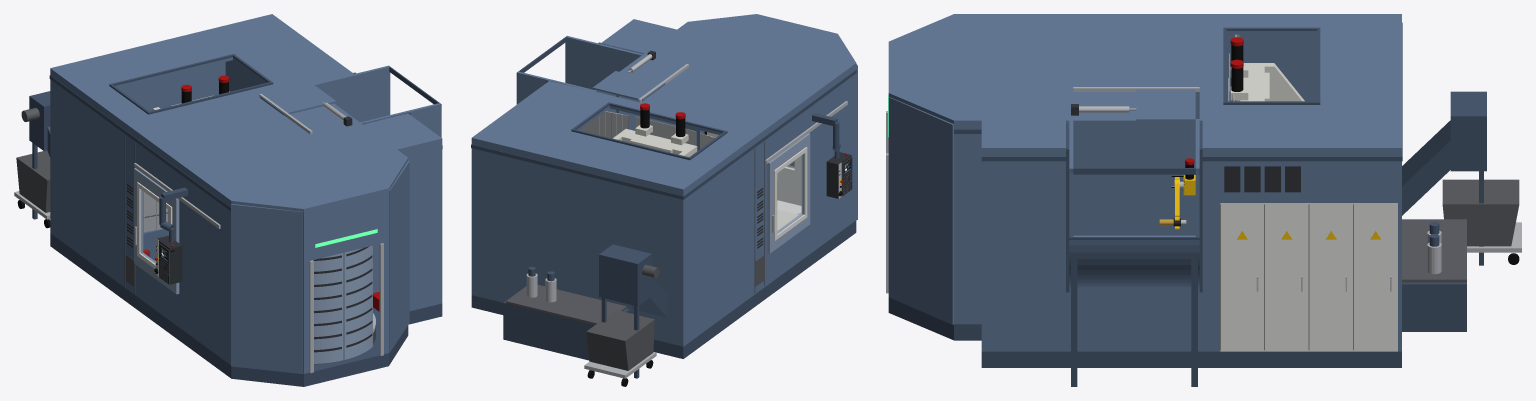
File: hmc_x1200_5ax_blue_left.glb
3 renders of one model, left to right at view 1: azimuth 30°, elevation 25°; view 2: azimuth 150°, elevation 25°; view 3: azimuth 270°, elevation 25°, orthographic. The views are drawn at different scales.
Visible parts, largest first — view 1: enclosure__fms_blue, apc_housing__fms_blue, enclosure__fms_blue_dk, tc_box__fms_blue, apc_housing__fms_blue_dk, apc_door_left__door_blue, apc_door_right__door_blue, chip_cart__steel_dark, operator_door__door_blue, tc_door__fms_blue, chip_coolant__fms_blue_dk, apc_housing__steel (+10 smaller); view 2: enclosure__fms_blue, chip_coolant__fms_blue_dk, apc_housing__fms_blue, enclosure__fms_blue_dk, tc_box__fms_blue, chip_cart__steel_dark, chip_coolant__anthracite_lt, operator_door__door_blue, operator_door__glass_clear, tc_door__fms_blue, column__struct_grey, apc_turntable__hmc_white (+10 smaller); view 3: enclosure__fms_blue, apc_housing__fms_blue, electrical_cabinet__hmc_white, enclosure__fms_blue_dk, chip_coolant__fms_blue_dk, tc_door__fms_blue, tc_box__fms_blue, chip_cart__steel_dark, chip_coolant__anthracite_lt, tc_box__fms_blue_dk, column__struct_grey, enclosure__anthracite (+4 smaller).
Boxes of the visible parts, x1,y1,x2,y2 form: enclosure__fms_blue: (50,14,442,357); apc_housing__fms_blue: (220,149,409,373); enclosure__fms_blue_dk: (49,54,442,370); tc_box__fms_blue: (313,65,441,137); apc_housing__fms_blue_dk: (220,200,408,386); apc_door_left__door_blue: (343,245,372,359); apc_door_right__door_blue: (314,253,343,363); chip_cart__steel_dark: (16,150,50,212); operator_door__door_blue: (134,168,179,294); tc_door__fms_blue: (260,83,336,115); chip_coolant__fms_blue_dk: (29,91,50,219); apc_housing__steel: (309,243,383,373); enclosure__fms_blue: (471,19,845,346); chip_coolant__fms_blue_dk: (503,244,667,378); apc_housing__fms_blue: (677,14,857,227); enclosure__fms_blue_dk: (471,42,845,358); tc_box__fms_blue: (516,36,642,104); chip_cart__steel_dark: (586,310,654,370); chip_coolant__anthracite_lt: (506,284,626,324); operator_door__door_blue: (767,133,810,253); operator_door__glass_clear: (778,155,802,231); tc_door__fms_blue: (592,71,665,112); column__struct_grey: (613,125,697,156); apc_turntable__hmc_white: (707,132,801,213); enclosure__fms_blue: (981,14,1401,351); apc_housing__fms_blue: (888,14,981,324); electrical_cabinet__hmc_white: (1220,203,1397,351); enclosure__fms_blue_dk: (981,22,1402,367); chip_coolant__fms_blue_dk: (1402,91,1486,331); tc_door__fms_blue: (1136,89,1195,235); tc_box__fms_blue: (1069,120,1199,287); chip_cart__steel_dark: (1442,179,1519,246); chip_coolant__anthracite_lt: (1402,219,1466,282); tc_box__fms_blue_dk: (1069,168,1199,386); column__struct_grey: (1230,63,1304,101); enclosure__anthracite: (1071,104,1300,192).
Size of the model in its own units: 5.08 by 3.22 by 7.86.
Materials: 22 (2 with a texture image).
